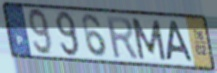6: (81, 12, 109, 60)
9: (54, 10, 82, 59), (28, 7, 54, 58)
A: (165, 19, 196, 64)
M: (129, 17, 169, 63)
R: (104, 15, 140, 61)
